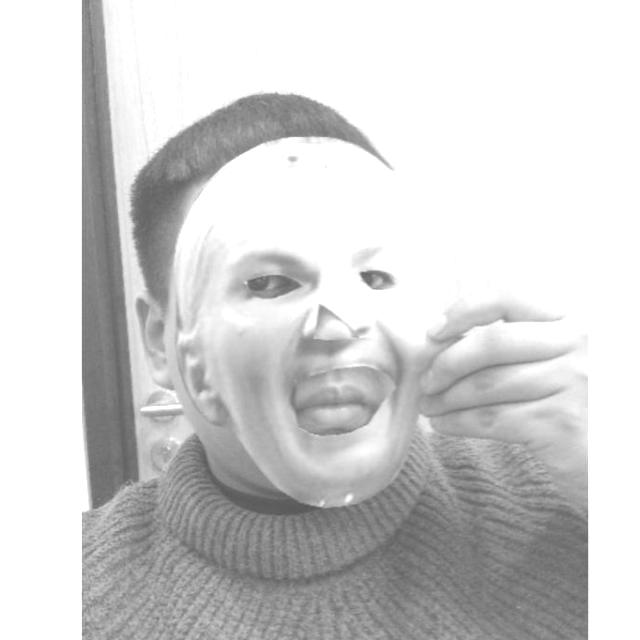fake: (160, 130, 452, 512)
